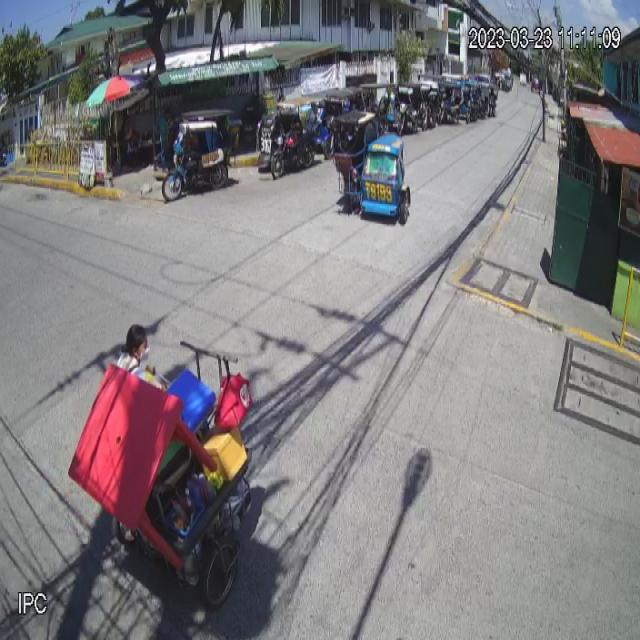Tricycle: (331, 109, 413, 227)
